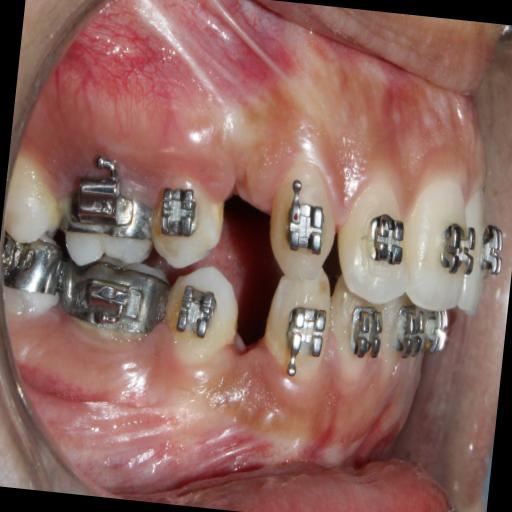correct_brace: (144, 176, 234, 277), (434, 212, 480, 278), (284, 194, 328, 258), (365, 206, 408, 268)
incorrect_brace: (334, 160, 414, 308), (156, 182, 200, 246)
